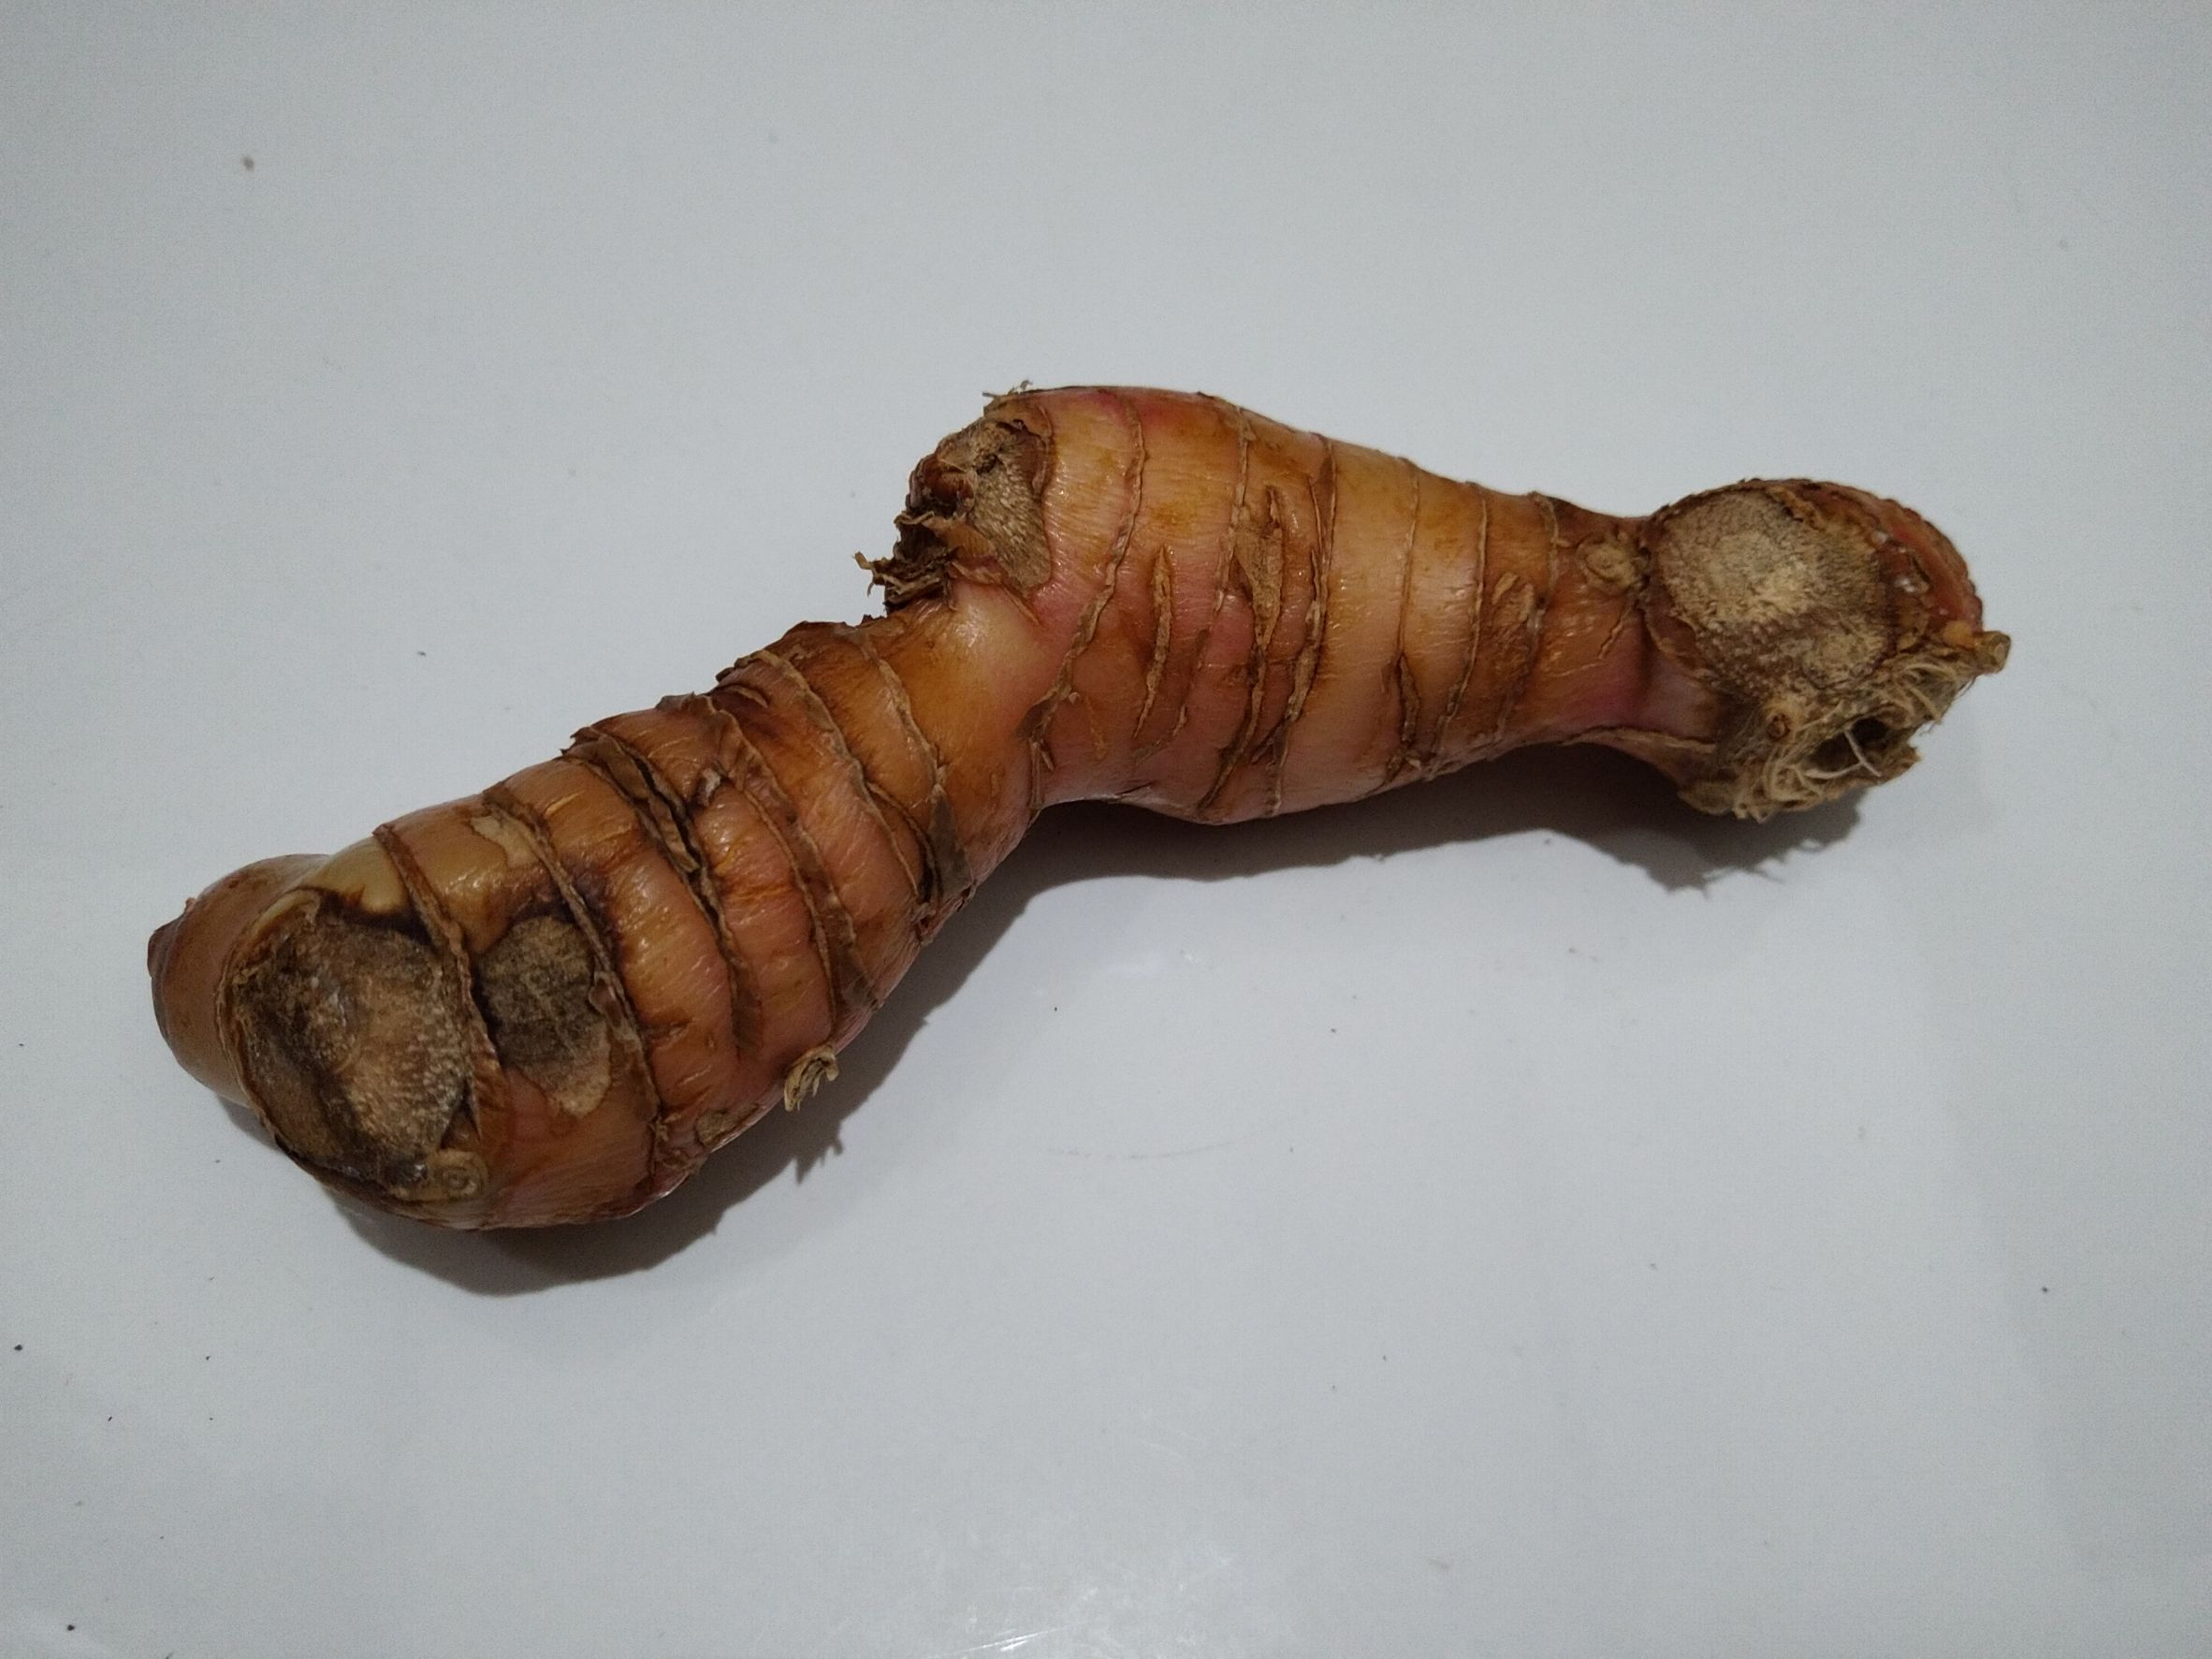Lengkuas: (174, 378, 2003, 1281)
